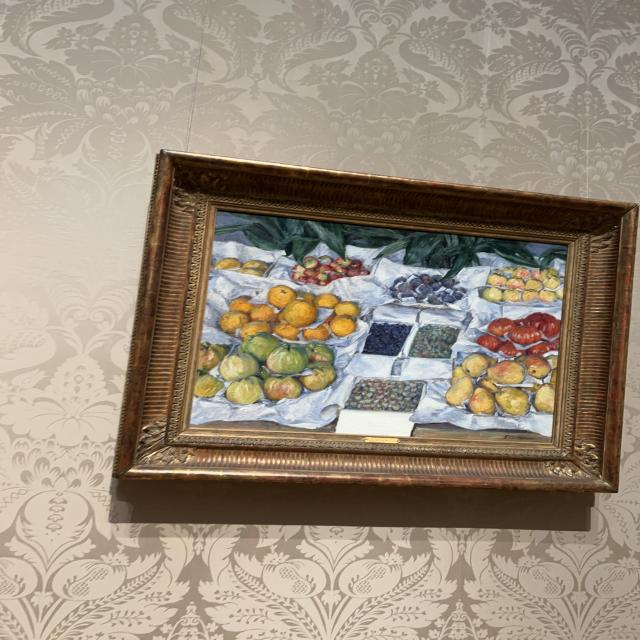fruits: (192, 214, 561, 438)
